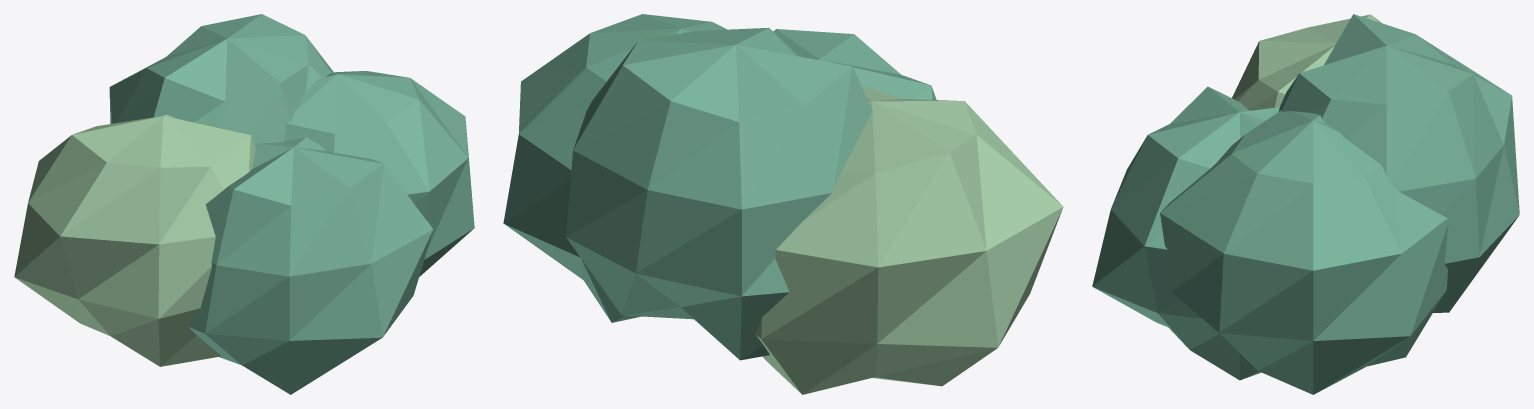
File: bush.glb
The picture shows the model from 3 angles, left to right: view 1: azimuth 30°, elevation 25°; view 2: azimuth 150°, elevation 25°; view 3: azimuth 270°, elevation 25°; orthographic projection. The views are drawn at different scales.
Visible parts, largest first — view 1: bush; view 2: bush; view 3: bush.
Boxes of the visible parts, left/top/right/bottom form: bush: left=14, top=14, right=474, bottom=394; bush: left=503, top=14, right=1063, bottom=394; bush: left=1092, top=14, right=1519, bottom=394.
Bounding box in the file's own units: 2.19 × 1.4 × 1.75.
